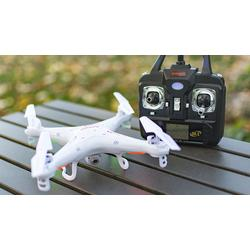drone: (23, 91, 184, 192)
